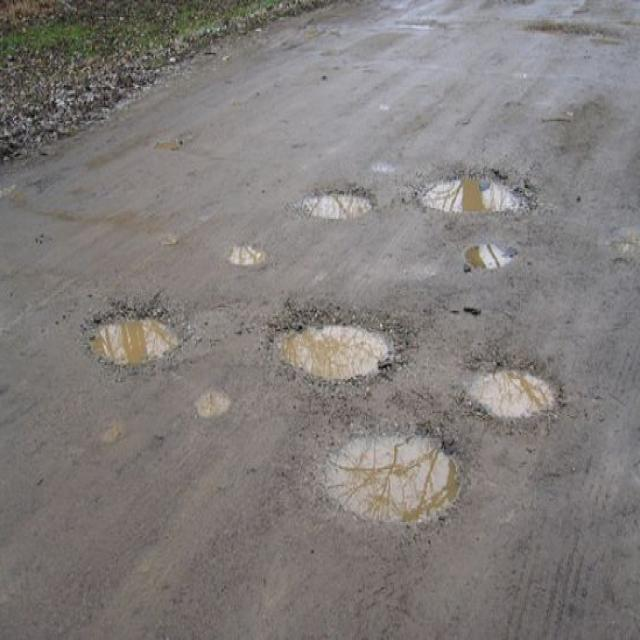Pothole: (311, 421, 470, 530), (268, 306, 413, 382), (462, 356, 573, 424), (86, 303, 190, 370), (418, 167, 534, 220), (296, 178, 381, 220), (462, 239, 523, 279), (227, 239, 276, 273)
